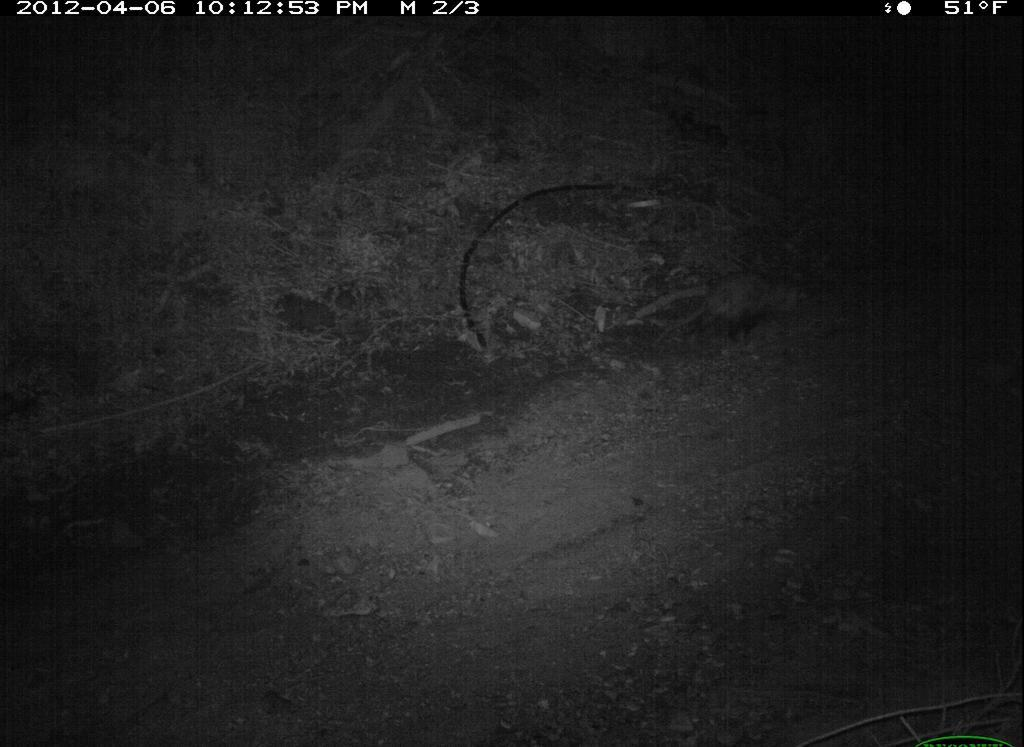opossum: (651, 267, 815, 354)
